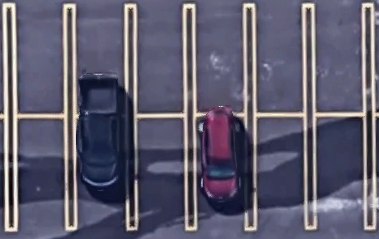Occupied: (73, 116, 128, 230), (74, 5, 128, 116), (195, 115, 246, 230)
Vacant: (14, 116, 66, 230), (14, 4, 67, 115), (314, 114, 365, 229), (136, 117, 187, 231), (255, 115, 306, 228), (313, 4, 365, 114), (135, 5, 186, 115), (195, 4, 246, 114), (255, 5, 305, 115)
